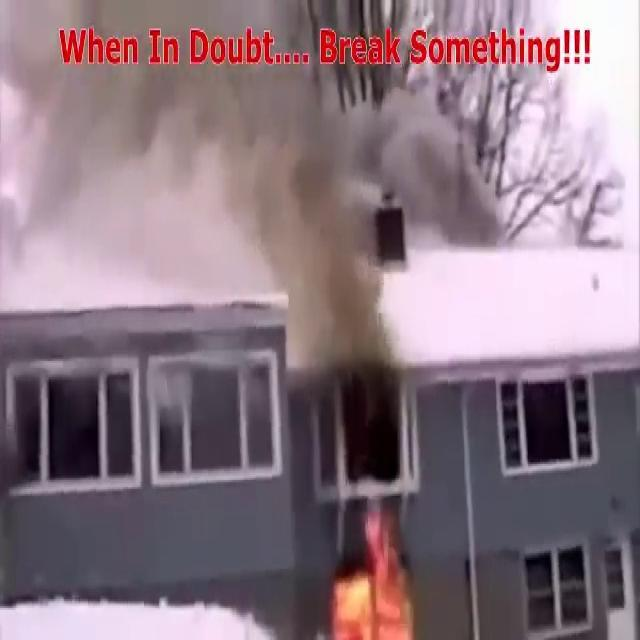Fire: (323, 519, 426, 640)
Smoke: (0, 0, 471, 300)
